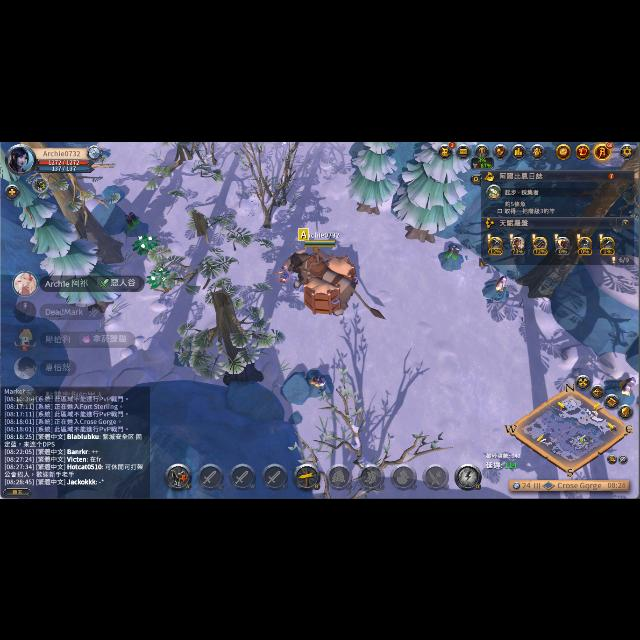mine_ii: (604, 377, 636, 407), (304, 368, 330, 396), (482, 275, 510, 301)
mine_iii: (438, 243, 464, 269), (122, 211, 146, 235)
